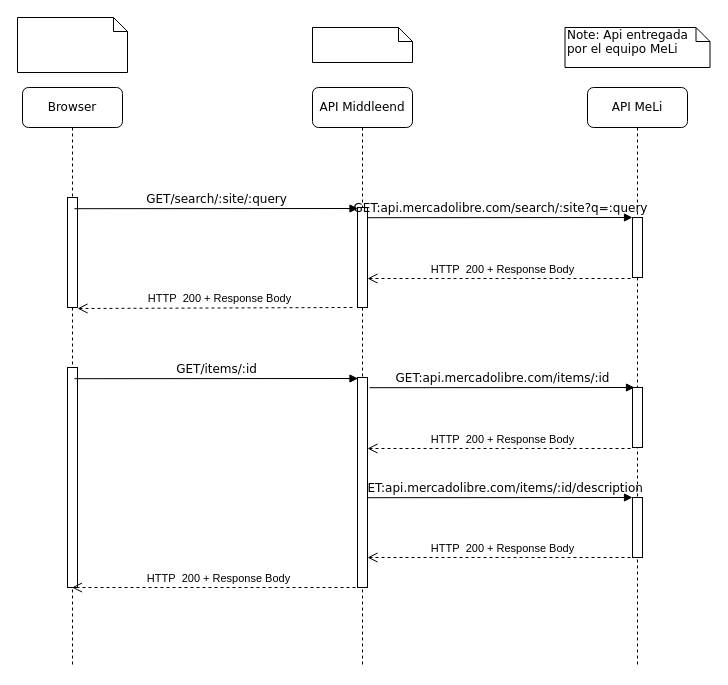
Image size: 728x685. Some labels were removed from this diagram. Each missing label, with the centre of its shape:
"Note: API implementada" goes at point (362, 44).
"Note: Puede ser Postman, Insomnia, etc" goes at point (72, 44).
